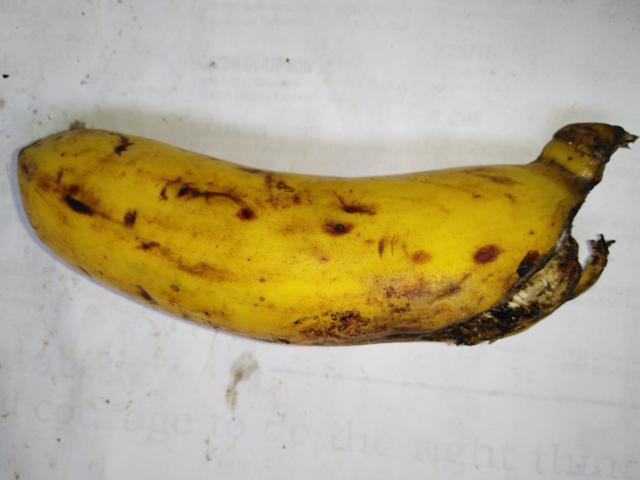ripe: (16, 104, 439, 357)
rotten: (398, 197, 621, 356)
